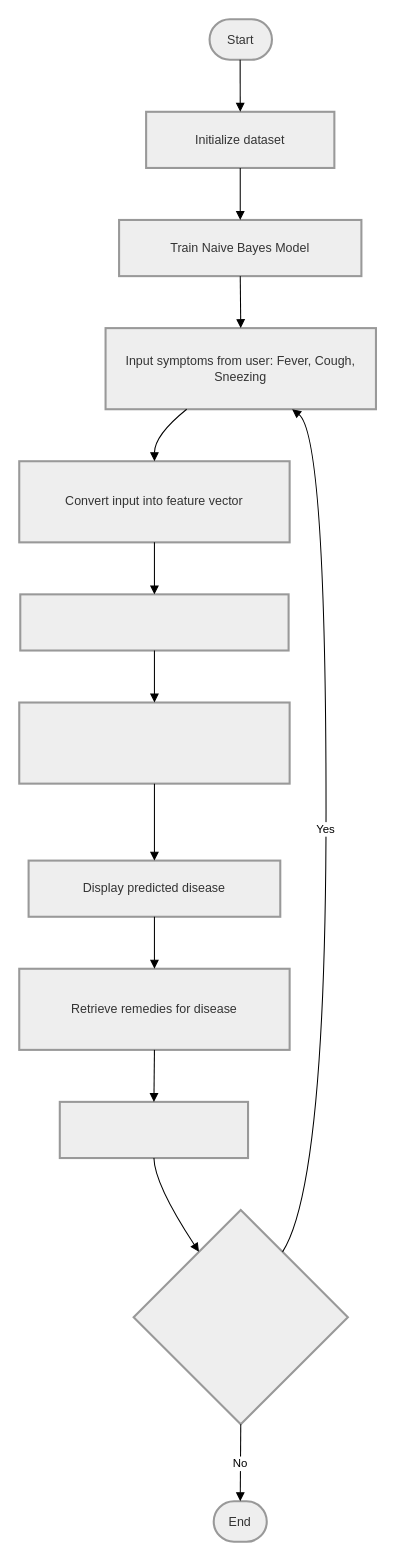
This 394x1560 diagram has some shape labels left out. The centre of each missing label's shape, as x and y in pixels:
Ask user to continue?: point (240, 1316)
Calculate probability/confidence: point (154, 742)
Display remedies: point (153, 1129)
Predict disease using model: point (154, 622)
